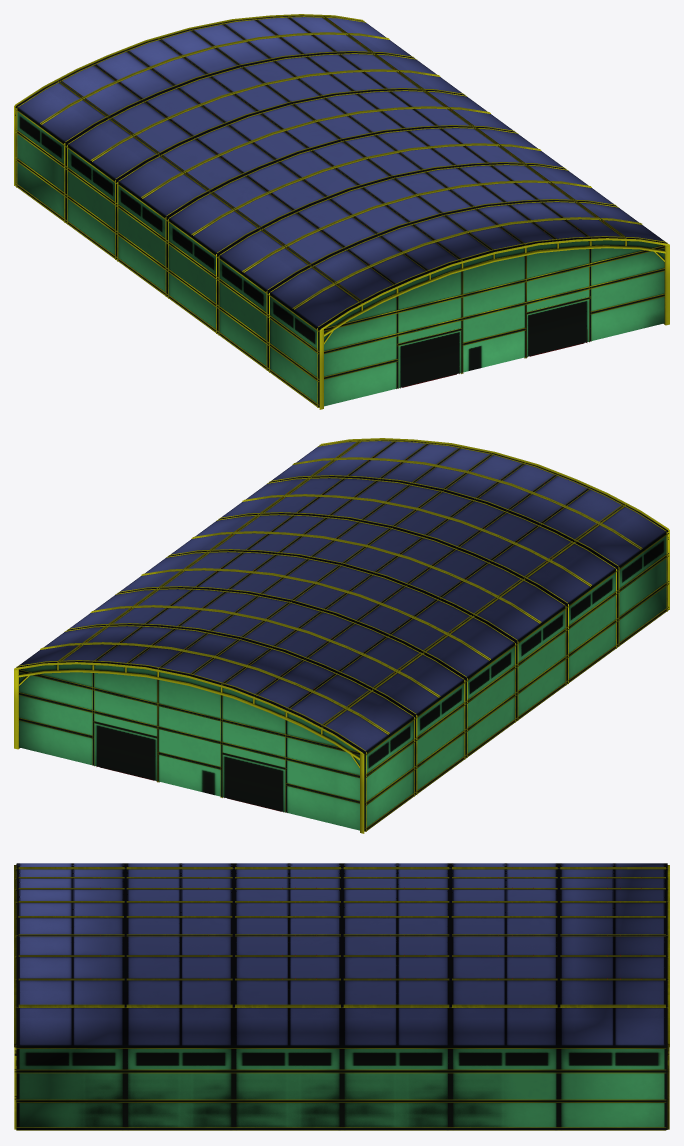
The model's file is warehouse_blender.blend.glb.
The picture shows the model from 3 angles, top to bottom: view 1: azimuth 30°, elevation 25°; view 2: azimuth 150°, elevation 25°; view 3: azimuth 270°, elevation 25°; orthographic projection. The views are drawn at different scales.
Visible parts, largest first — view 1: Node1, Node2, Node14, Node3, Node15, Node11; view 2: Node1, Node2, Node14, Node3, Node15, Node11; view 3: Node1, Node2, Node15, Node14, Node11.
Part boxes in pixels (x1,y1,x2,y2): Node1: (15,15,667,407); Node2: (15,16,618,372); Node14: (14,14,669,409); Node3: (157,22,664,388); Node15: (268,200,642,407); Node11: (189,29,494,259); Node1: (16,440,667,831); Node2: (40,475,619,831); Node14: (14,438,669,833); Node3: (19,446,526,812); Node15: (292,440,669,646); Node11: (189,453,493,674); Node1: (16,863,667,1129); Node2: (124,867,666,1130); Node15: (16,864,124,1130); Node14: (14,865,669,1129); Node11: (15,916,665,919).
Size of the model in its own units: 66.27 by 20.9 by 100.
Materials: 4 (4 with a texture image).
